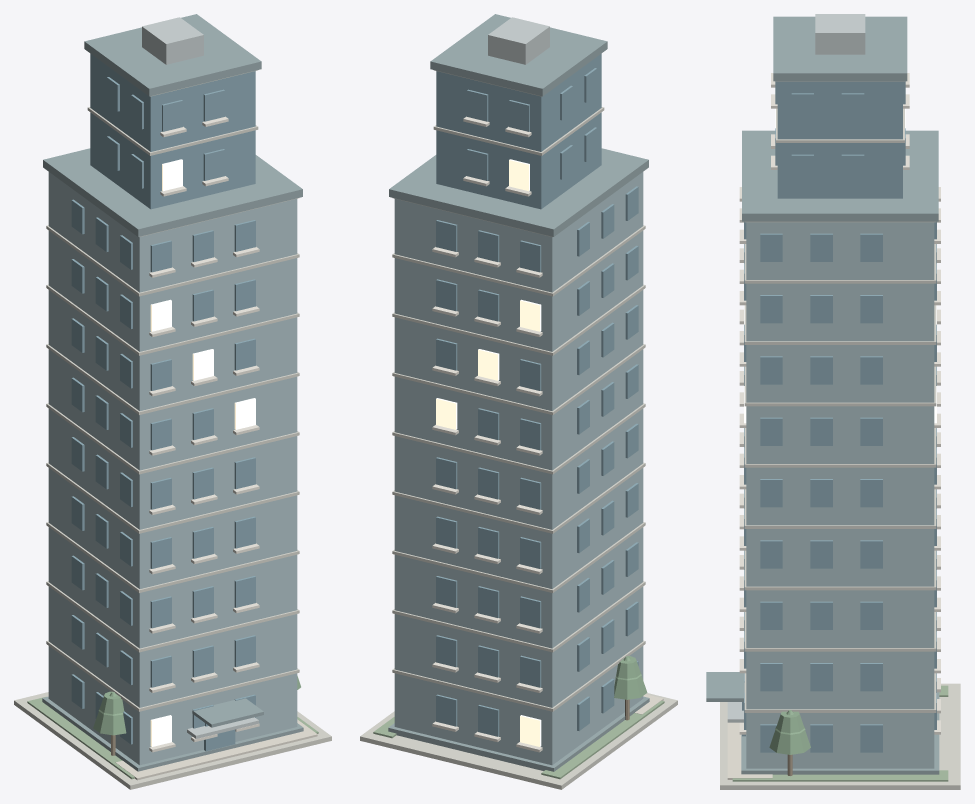
Rendered from remaster_office_9.glb.
3 views of the same model, side by side, from view 1: azimuth 30°, elevation 25°; view 2: azimuth 150°, elevation 25°; view 3: azimuth 270°, elevation 25° (orthographic). The views are drawn at different scales.
Parts seen in each view (by area): view 1: remaster_office_9 blue, remaster_office_9 glass, remaster_office_9 roof, remaster_office_9 stone, remaster_office_9 white, remaster_office_9 warm, remaster_office_9 metal, remaster_office_9 cream, remaster_office_9 green, remaster_office_9 leaf; view 2: remaster_office_9 blue, remaster_office_9 glass, remaster_office_9 roof, remaster_office_9 stone, remaster_office_9 white, remaster_office_9 warm, remaster_office_9 metal, remaster_office_9 green, remaster_office_9 leaf; view 3: remaster_office_9 blue, remaster_office_9 glass, remaster_office_9 roof, remaster_office_9 stone, remaster_office_9 white, remaster_office_9 metal, remaster_office_9 green, remaster_office_9 leaf, remaster_office_9 cream.
Part boxes in pixels (x1,y1,x2,y2): remaster_office_9 blue: (48,172,297,765); remaster_office_9 glass: (71,53,255,751); remaster_office_9 roof: (42,14,303,771); remaster_office_9 stone: (14,70,331,789); remaster_office_9 white: (149,116,259,752); remaster_office_9 warm: (150,159,255,746); remaster_office_9 metal: (142,17,258,738); remaster_office_9 cream: (115,719,317,780); remaster_office_9 green: (27,696,318,779); remaster_office_9 leaf: (93,676,300,735); remaster_office_9 blue: (394,172,643,765); remaster_office_9 glass: (436,53,638,736); remaster_office_9 roof: (388,14,649,771); remaster_office_9 stone: (360,70,677,789); remaster_office_9 white: (432,116,542,752); remaster_office_9 warm: (436,159,541,746); remaster_office_9 metal: (488,17,549,64); remaster_office_9 green: (373,700,664,779); remaster_office_9 leaf: (614,656,647,699); remaster_office_9 blue: (746,222,934,768); remaster_office_9 glass: (742,81,936,752); remaster_office_9 roof: (706,16,939,774); remaster_office_9 stone: (720,81,960,789); remaster_office_9 white: (739,73,940,734); remaster_office_9 metal: (727,14,865,722); remaster_office_9 green: (732,685,948,781); remaster_office_9 leaf: (769,710,810,754); remaster_office_9 cream: (727,722,772,779).
Bounding box in the file's own units: 9.64 × 31.5 × 10.15.
